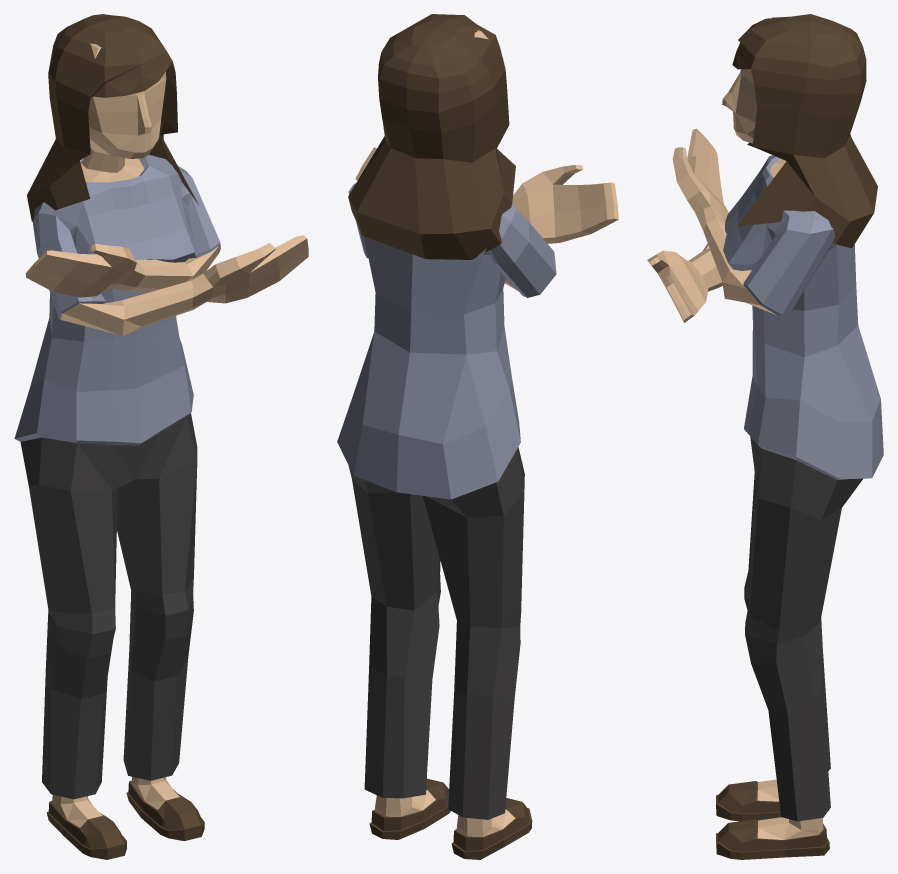
Rendered from Female_Crowd_ArmsCrossed.glb.
The picture shows the model from 3 angles, left to right: view 1: azimuth 30°, elevation 25°; view 2: azimuth 150°, elevation 25°; view 3: azimuth 270°, elevation 25°; orthographic projection. The views are drawn at different scales.
Visible parts, largest first — view 1: Female_Crowd_ArmsCrossed; view 2: Female_Crowd_ArmsCrossed; view 3: Female_Crowd_ArmsCrossed.
Boxes of the visible parts, x1,y1,x2,y2 form: Female_Crowd_ArmsCrossed: (14, 14, 308, 859); Female_Crowd_ArmsCrossed: (337, 14, 618, 859); Female_Crowd_ArmsCrossed: (647, 14, 883, 859).
Bounding box in the file's own units: 0.5911 × 1.67 × 0.442.
